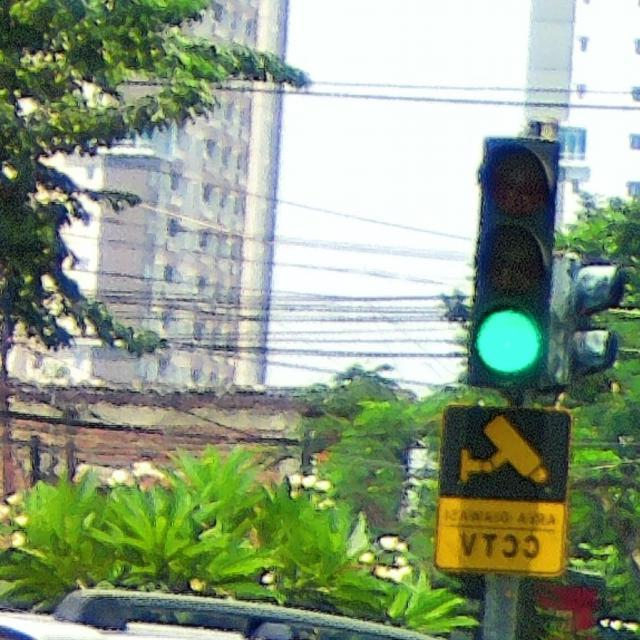green_light: (467, 136, 557, 386)
